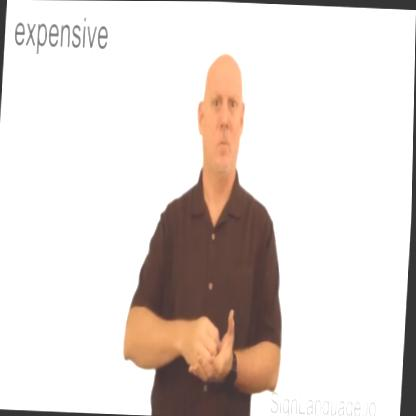Expensive: (122, 51, 302, 416)
